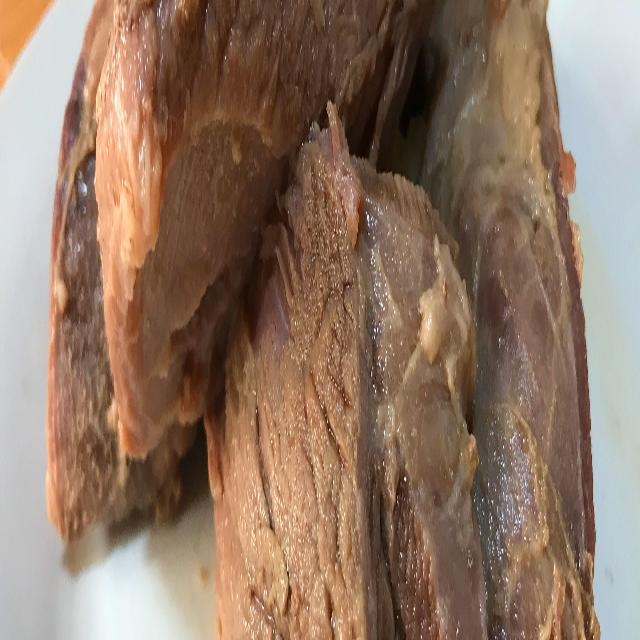carne de res: (46, 0, 615, 632)
